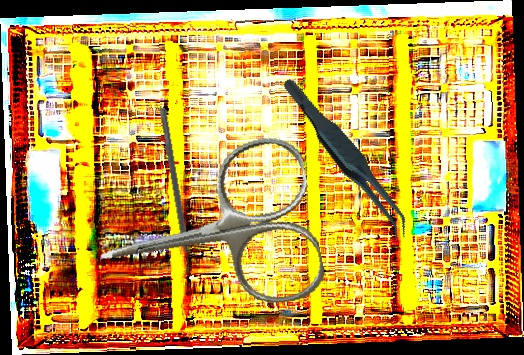Iris Scissors: (85, 131, 329, 337)
Spatula Surgical: (152, 107, 196, 279)
Tissue Forceps: (281, 58, 413, 259)
